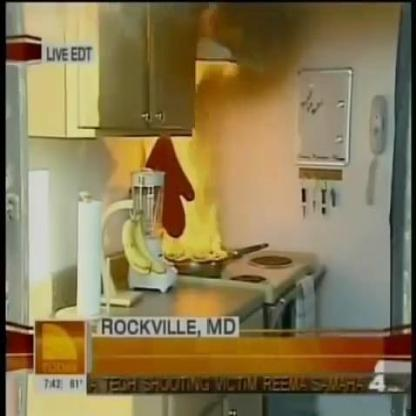fire: (147, 58, 241, 264)
